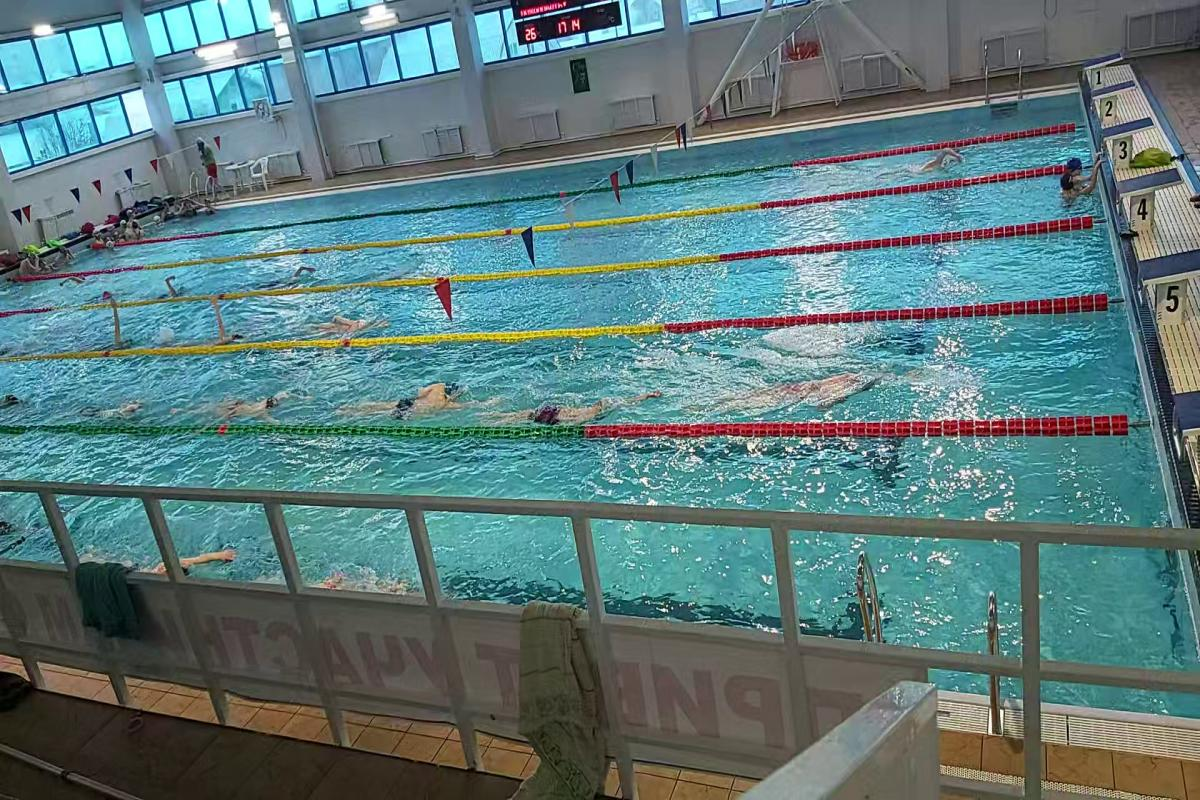swimmer: (92, 537, 241, 584), (362, 370, 478, 420), (496, 395, 664, 425), (213, 377, 305, 424), (316, 560, 422, 596), (304, 305, 392, 338), (75, 385, 143, 419), (207, 307, 251, 343), (917, 147, 965, 177), (105, 306, 141, 344), (157, 273, 191, 297)
